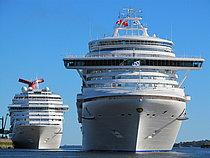Ship: (65, 5, 202, 154), (6, 73, 67, 153)
